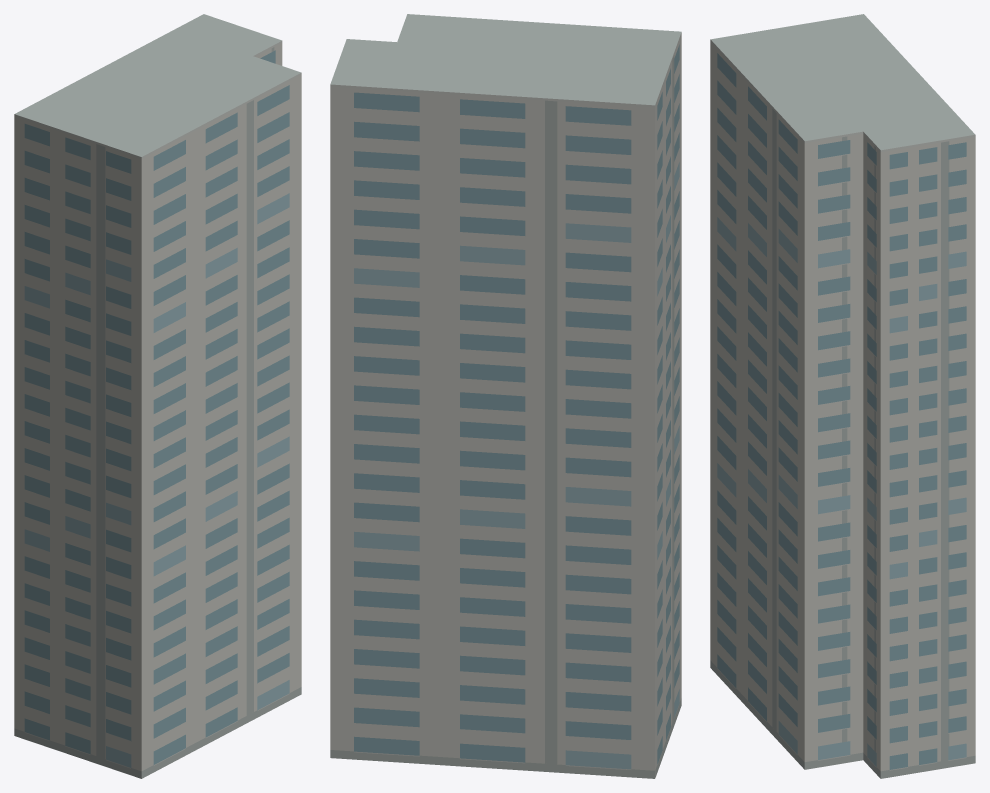
File: residential-a3e15216-f4cd-4a40-81c1-e89d125e2403.glb
3 views of the same model, side by side, from view 1: azimuth 30°, elevation 25°; view 2: azimuth 150°, elevation 25°; view 3: azimuth 270°, elevation 25° (orthographic). The views are drawn at different scales.
Visible parts, largest first — view 1: residential-a3e15216-f4cd-4a40-81c1-e89d125e2403.tmp; view 2: residential-a3e15216-f4cd-4a40-81c1-e89d125e2403.tmp; view 3: residential-a3e15216-f4cd-4a40-81c1-e89d125e2403.tmp.
Boxes of the visible parts, bbox=[...] form: residential-a3e15216-f4cd-4a40-81c1-e89d125e2403.tmp: bbox=[14, 14, 301, 778]; residential-a3e15216-f4cd-4a40-81c1-e89d125e2403.tmp: bbox=[330, 14, 681, 778]; residential-a3e15216-f4cd-4a40-81c1-e89d125e2403.tmp: bbox=[710, 14, 975, 778].
Bounding box in the file's own units: 32.64 × 70.15 × 26.82.
